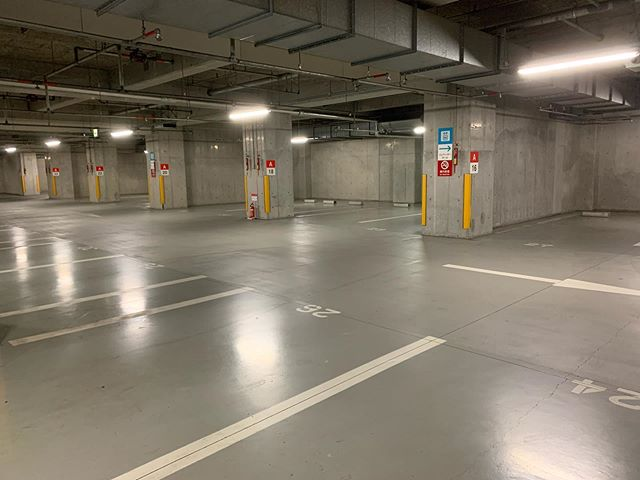collumn: (239, 114, 301, 220)
street: (16, 210, 640, 480)
